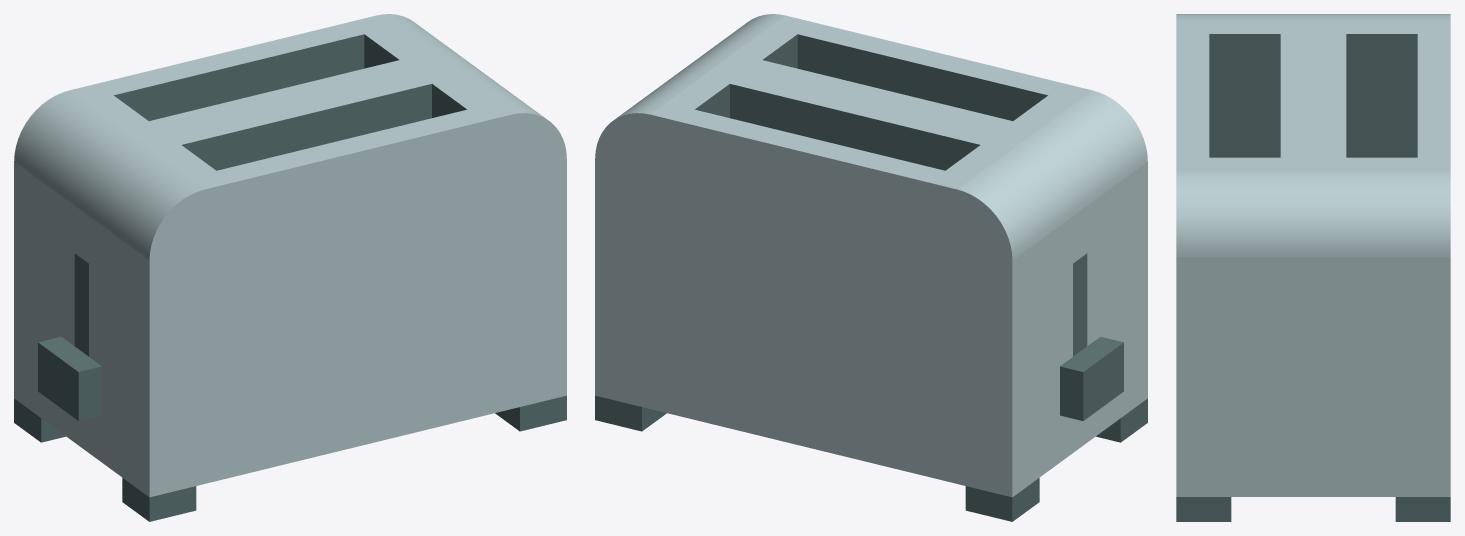
The model's file is toaster.3c0f115f.glb.
3 renders of one model, left to right at view 1: azimuth 30°, elevation 25°; view 2: azimuth 150°, elevation 25°; view 3: azimuth 270°, elevation 25°, orthographic.
Visible parts, largest first — view 1: model; view 2: model; view 3: model.
Boxes of the visible parts, box(x1,y1,x2,y2) form: model: box(14, 14, 566, 521); model: box(595, 14, 1147, 521); model: box(1176, 14, 1450, 521).
Bounding box in the file's own units: 0.3948 × 0.273 × 0.21.
